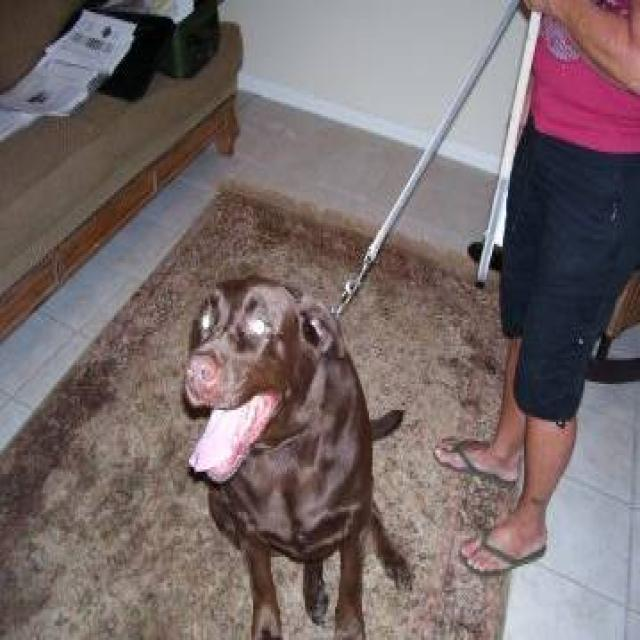dog: (182, 272, 414, 638)
